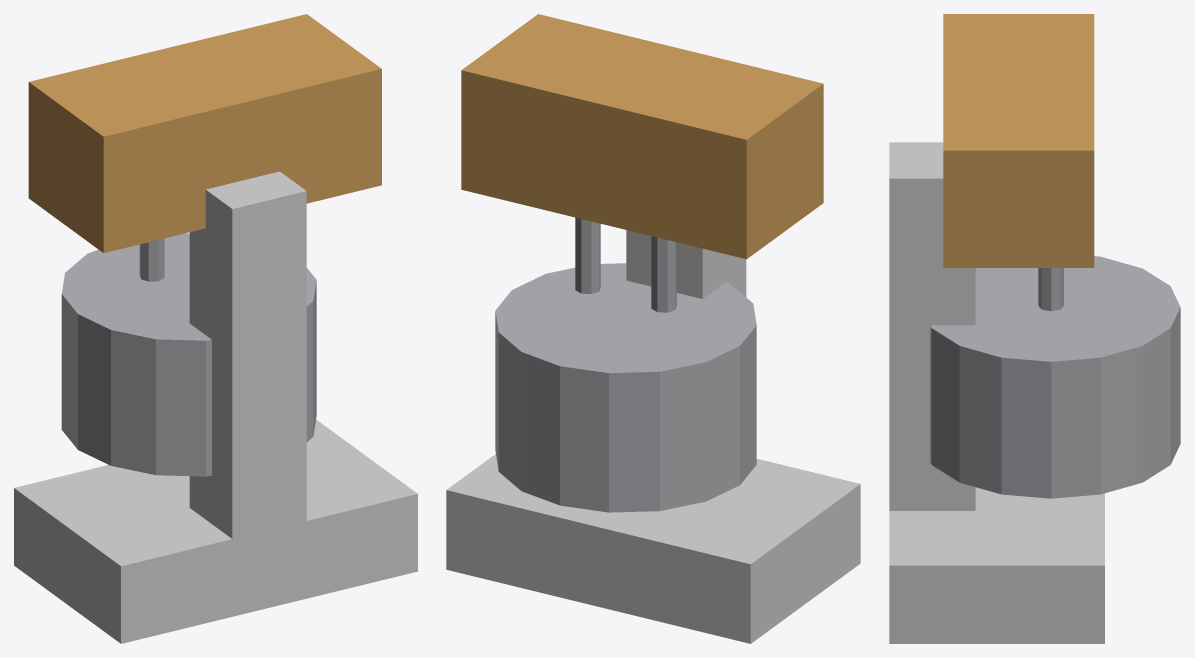
The model's file is eld_batedeira2.glb.
The picture shows the model from 3 angles, left to right: view 1: azimuth 30°, elevation 25°; view 2: azimuth 150°, elevation 25°; view 3: azimuth 270°, elevation 25°; orthographic projection. The views are drawn at different scales.
Parts seen in each view (by area): view 1: ELD_BATEDEIRA2_v01; view 2: ELD_BATEDEIRA2_v01; view 3: ELD_BATEDEIRA2_v01.
Boxes of the visible parts, bbox=[...] form: ELD_BATEDEIRA2_v01: bbox=[14, 14, 417, 643]; ELD_BATEDEIRA2_v01: bbox=[446, 14, 860, 643]; ELD_BATEDEIRA2_v01: bbox=[889, 14, 1180, 643].
Size of the model in its own units: 0.32 by 0.5 by 0.27.
